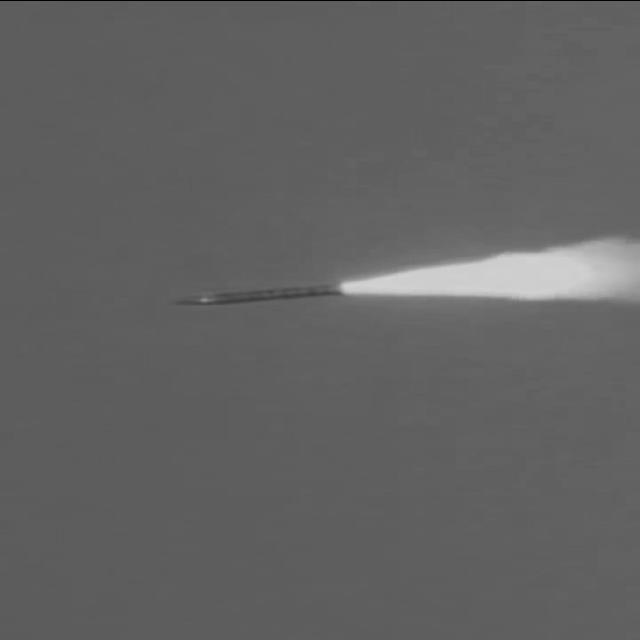missile: (160, 276, 356, 306)
